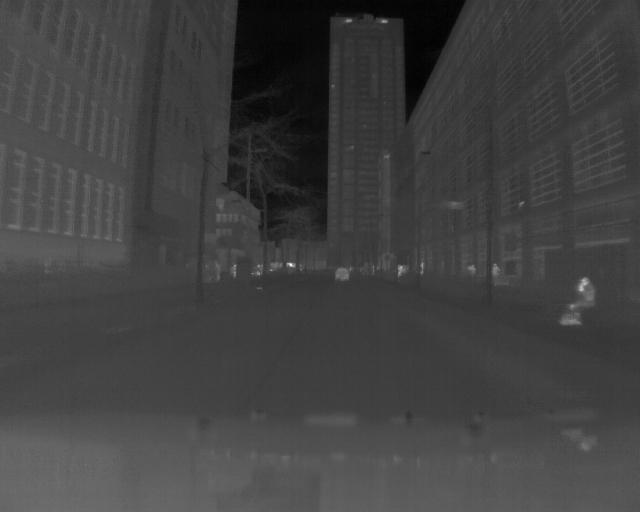car: (334, 267, 351, 281)
person: (570, 277, 595, 318)
